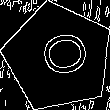O_W: (29, 31, 88, 83)
